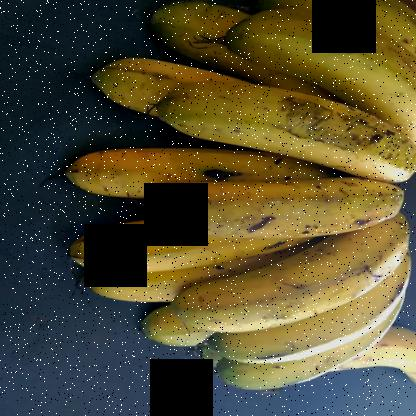ripe: (151, 200, 415, 335), (258, 3, 416, 167), (156, 85, 402, 189), (60, 194, 288, 280), (58, 135, 268, 210), (218, 277, 398, 363), (85, 27, 248, 118), (153, 166, 415, 221)
